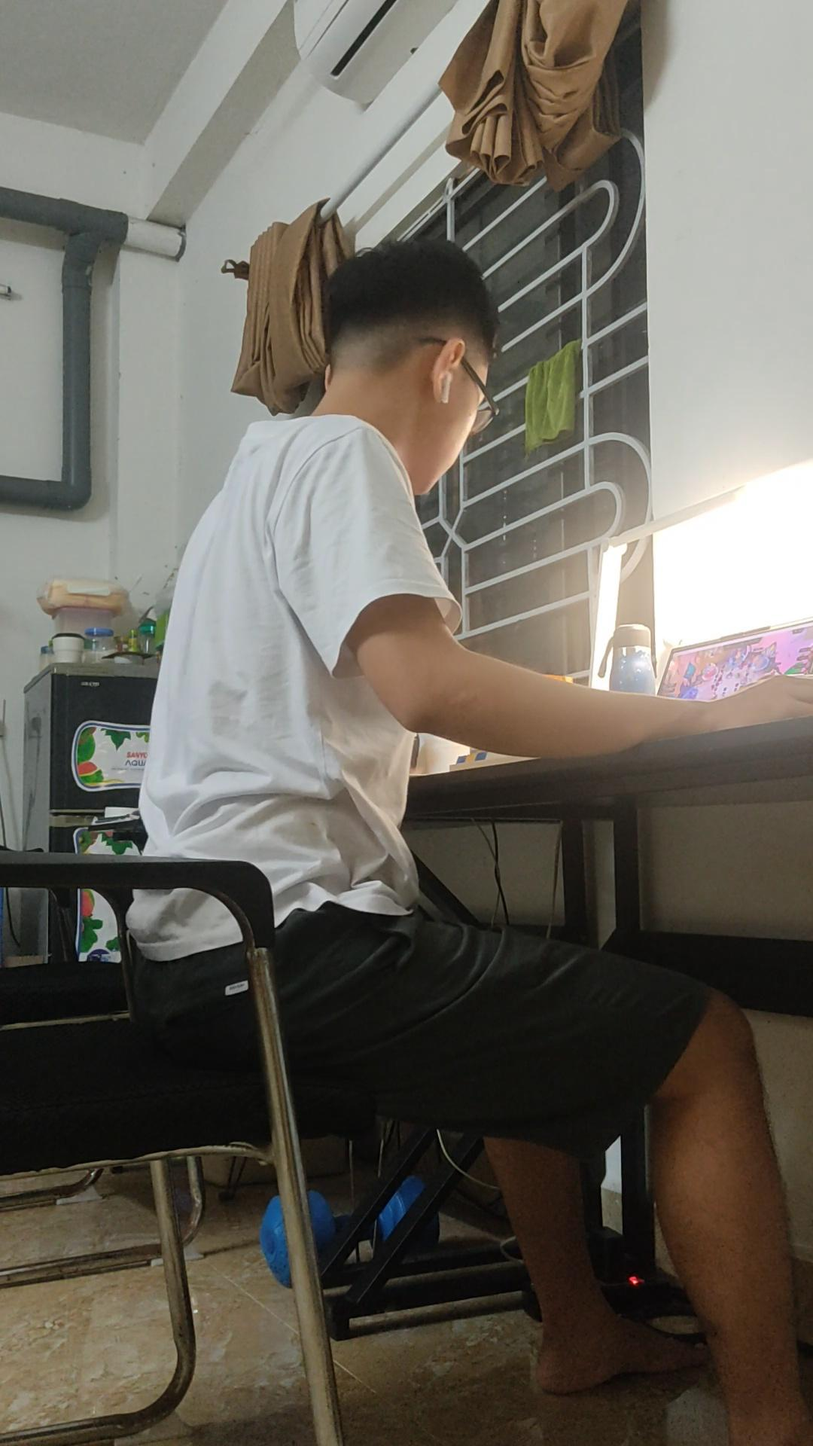GoodPosture: (141, 239, 812, 1445)
